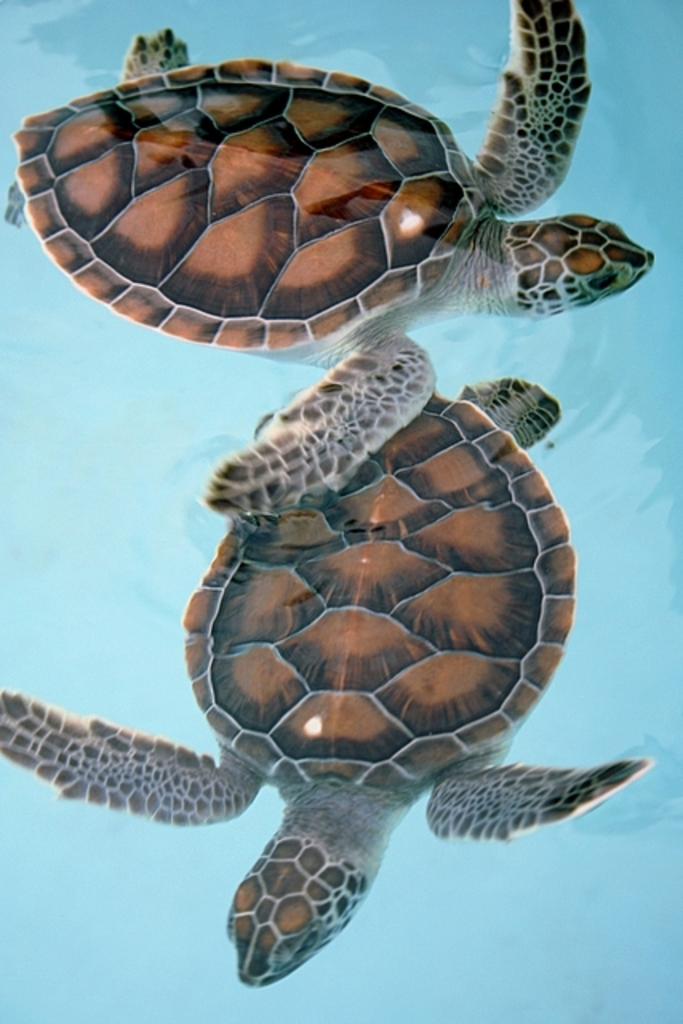Sea turtles: (0, 369, 649, 990), (7, 0, 660, 515)
